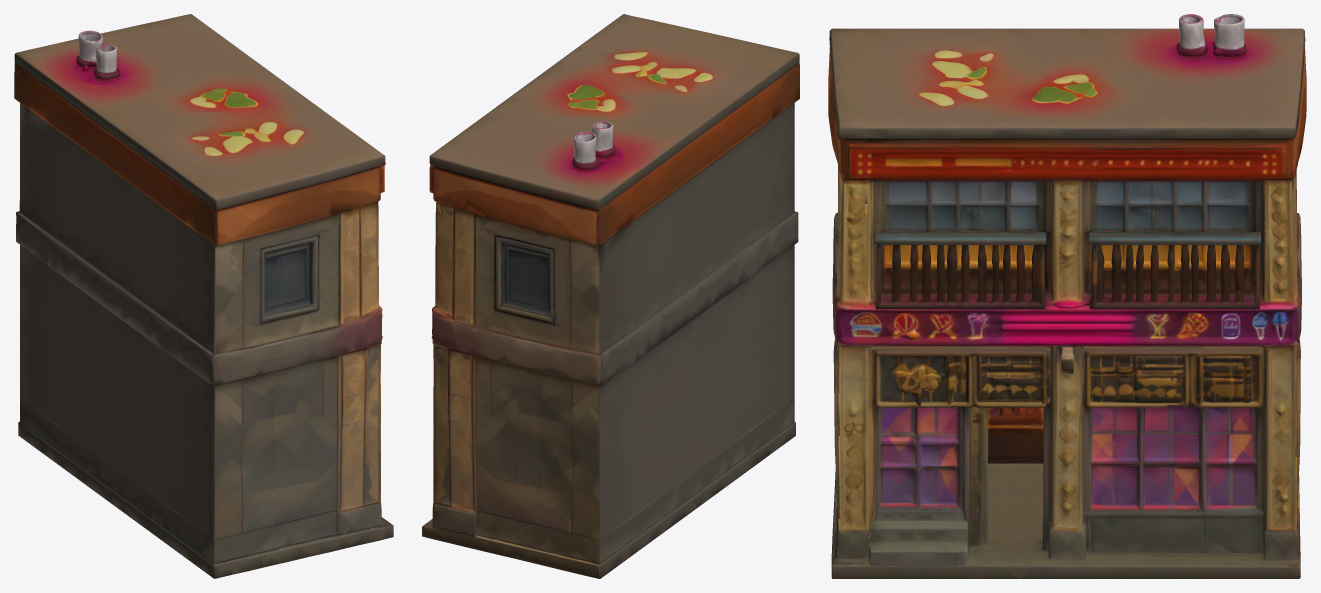
File: jacks-bar.glb
The picture shows the model from 3 angles, left to right: view 1: azimuth 30°, elevation 25°; view 2: azimuth 150°, elevation 25°; view 3: azimuth 270°, elevation 25°; orthographic projection. The views are drawn at different scales.
Parts seen in each view (by area): view 1: tripo_node_a3f6e1a9-3cd5-4f6b-9d9a-beb8cc3e9ad0; view 2: tripo_node_a3f6e1a9-3cd5-4f6b-9d9a-beb8cc3e9ad0; view 3: tripo_node_a3f6e1a9-3cd5-4f6b-9d9a-beb8cc3e9ad0.
Boxes of the visible parts, bbox=[...] form: tripo_node_a3f6e1a9-3cd5-4f6b-9d9a-beb8cc3e9ad0: bbox=[14, 14, 393, 578]; tripo_node_a3f6e1a9-3cd5-4f6b-9d9a-beb8cc3e9ad0: bbox=[422, 14, 799, 578]; tripo_node_a3f6e1a9-3cd5-4f6b-9d9a-beb8cc3e9ad0: bbox=[828, 14, 1306, 578].
Size of the model in its own units: 0.4638 by 1 by 0.8975.
Materials: 1 (1 with a texture image).
